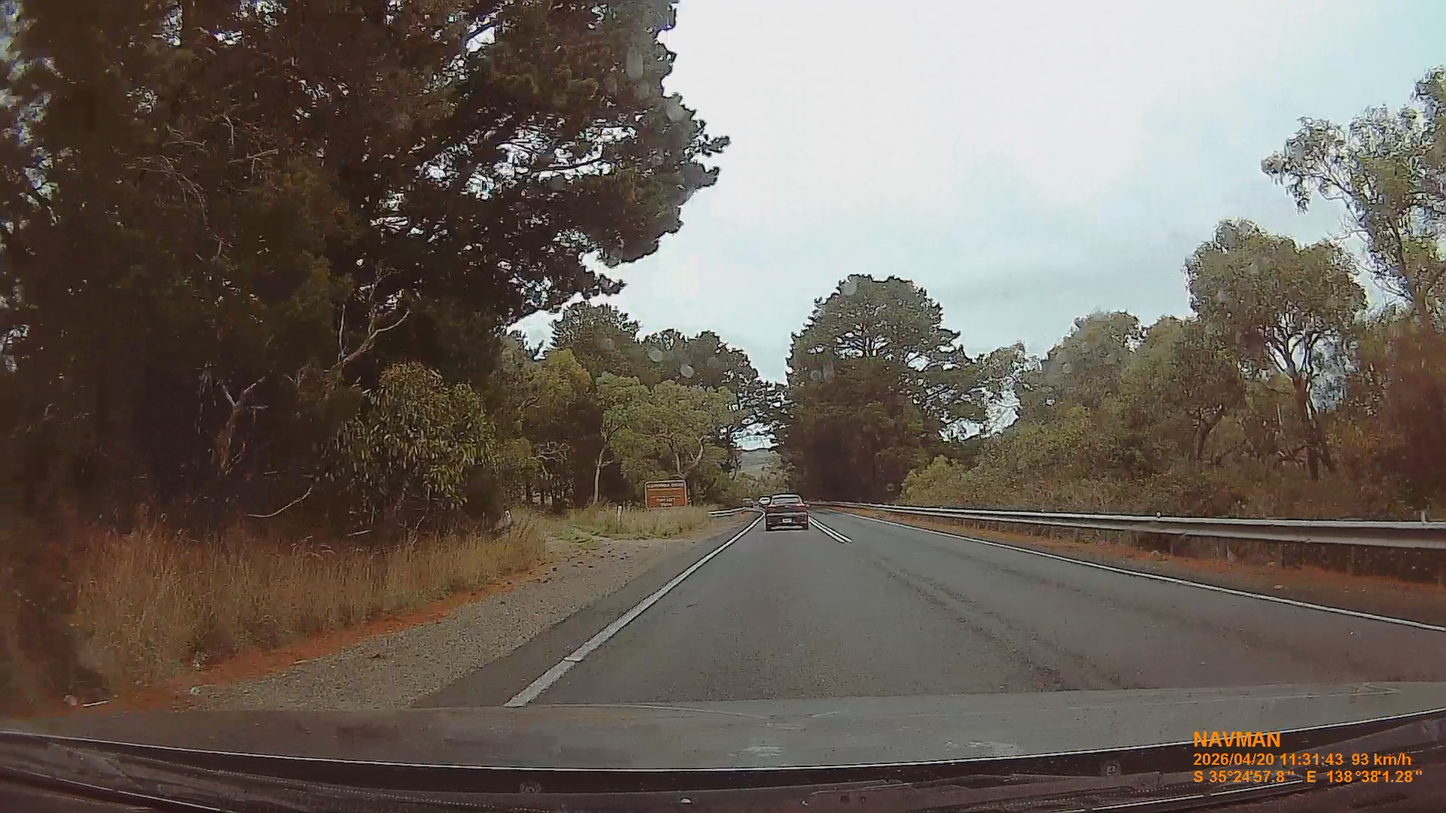road barriers: (825, 503, 1443, 574)
